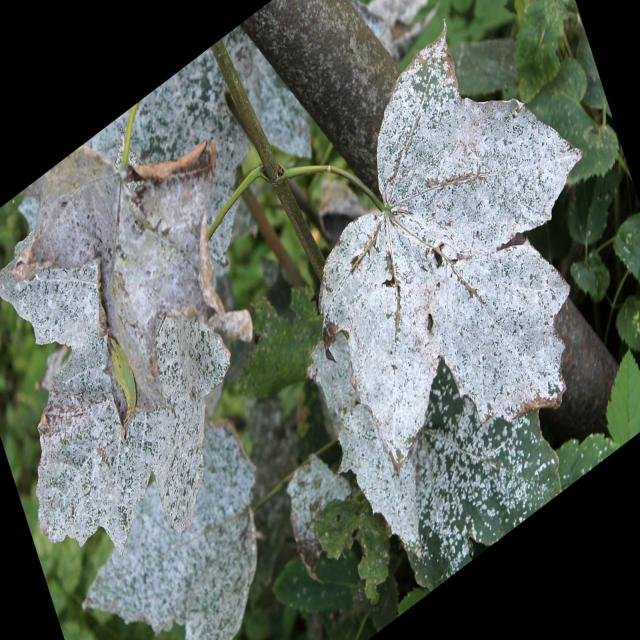Powdery Mildew: (315, 17, 583, 474), (67, 124, 258, 638)
